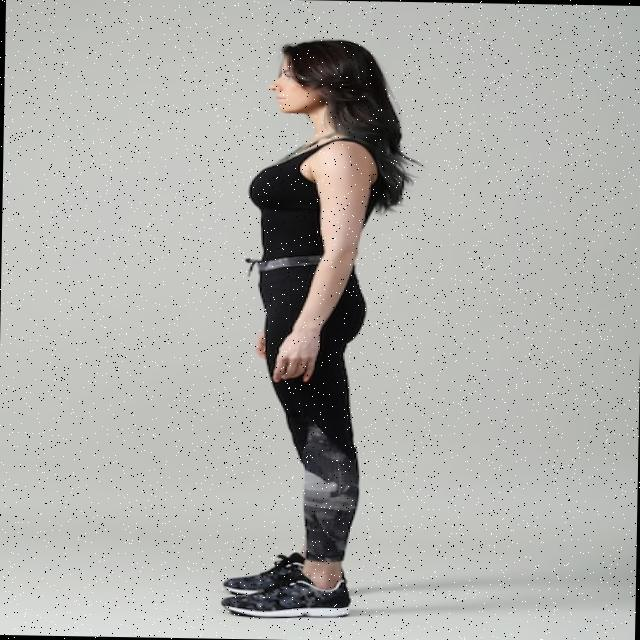Person: (216, 35, 402, 618)
